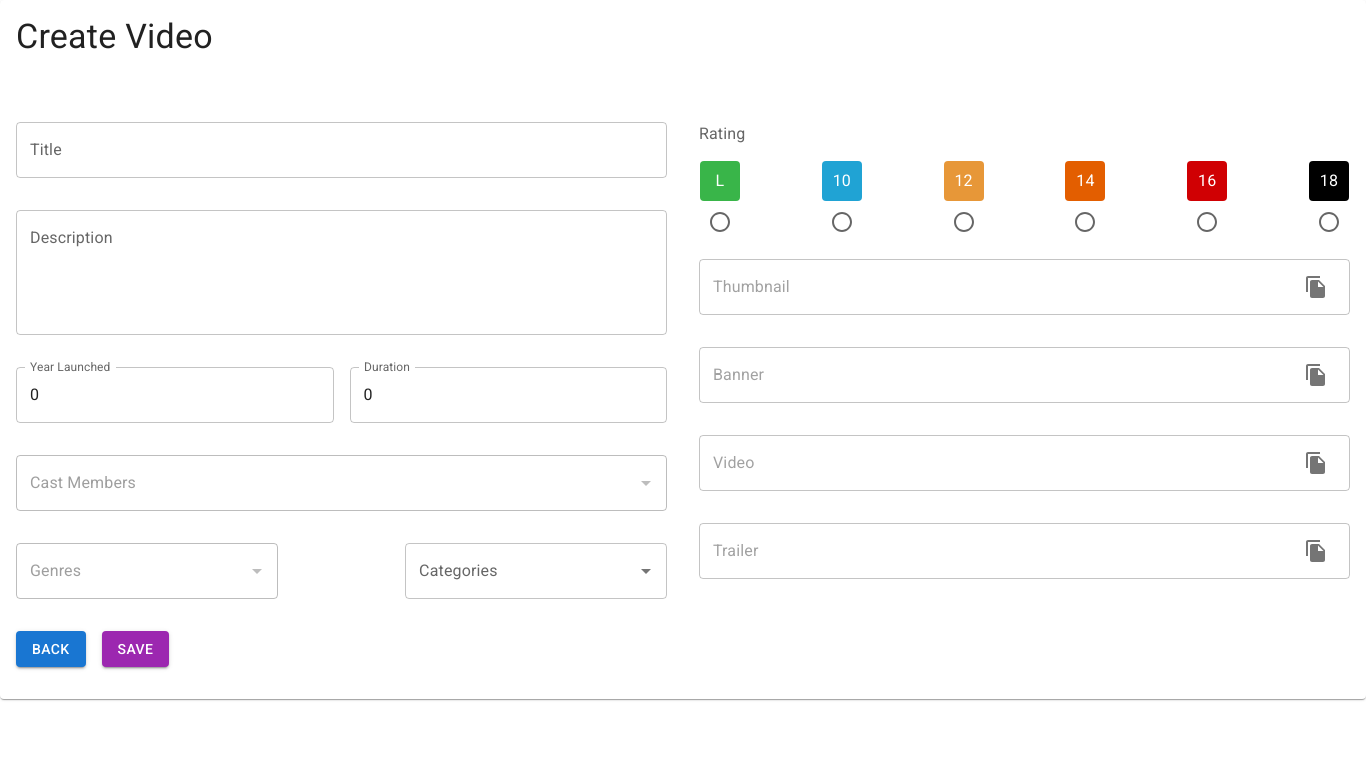
VideosCreate › should handle submit
The image size is (1366, 768).
Type "Test Video" into the field with test id "title". click: (342, 150)
box: [16,122,667,178]
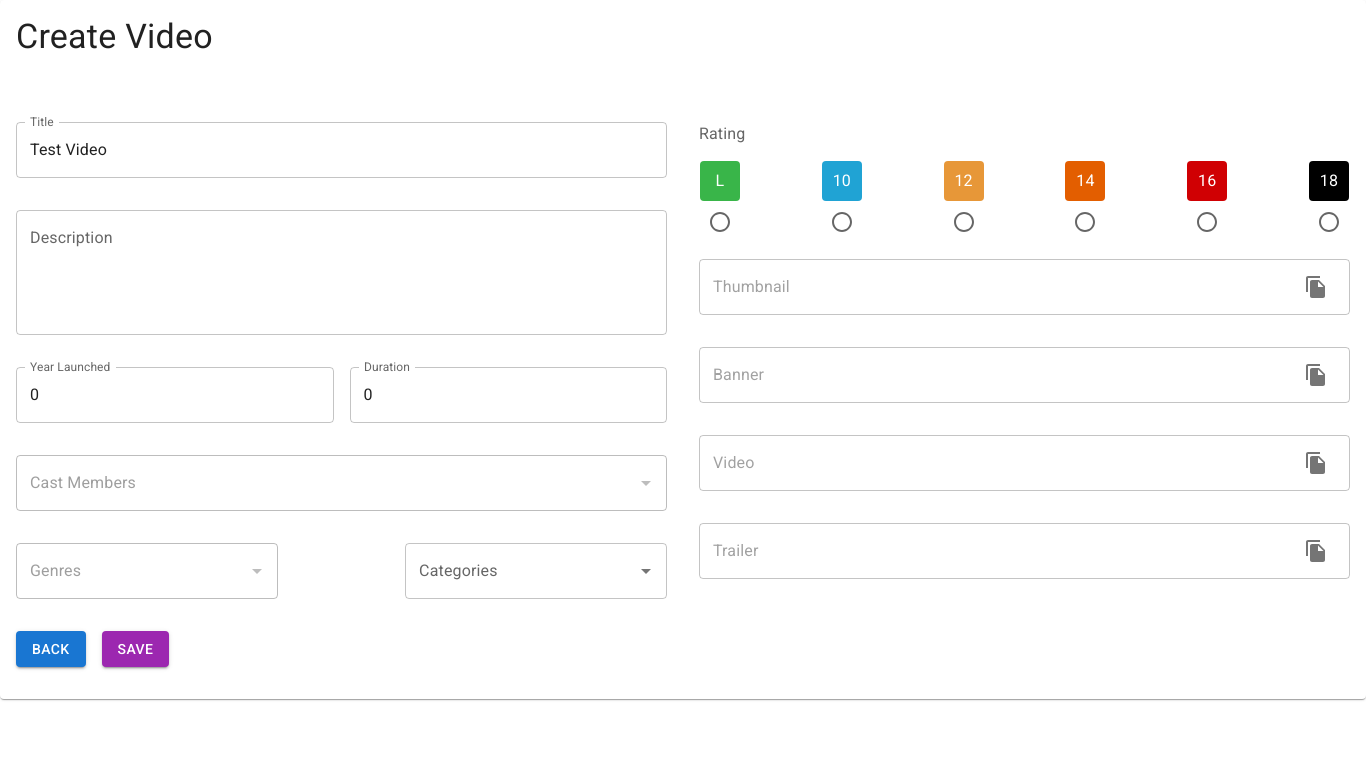
Type "Test description" into the text box with test id "description". click: (342, 272)
box: [30,226,653,318]
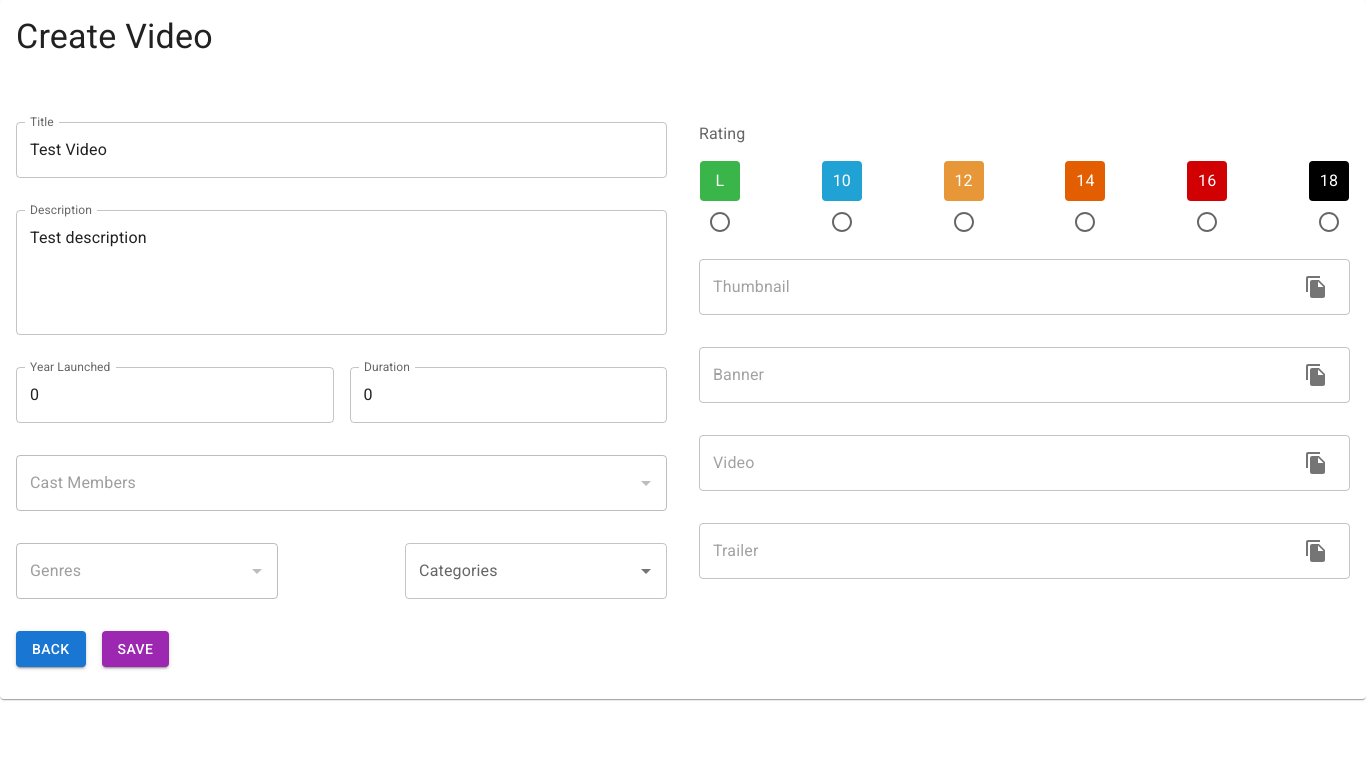
Replace the text in the field with test id "year_launched" with "2022". click: (175, 395)
box: [16,367,334,423]
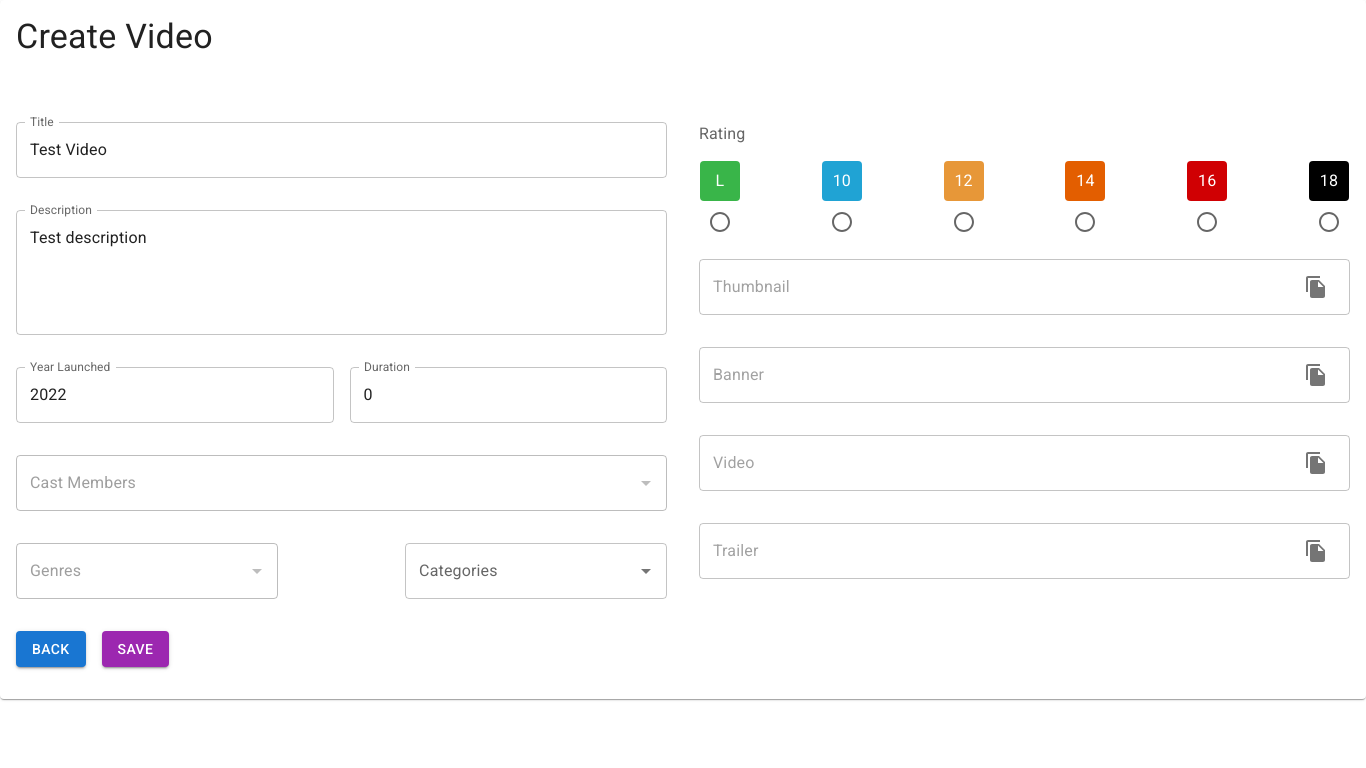
Replace the text in the field with test id "duration" with "120". click: (508, 395)
box: [350,367,667,423]
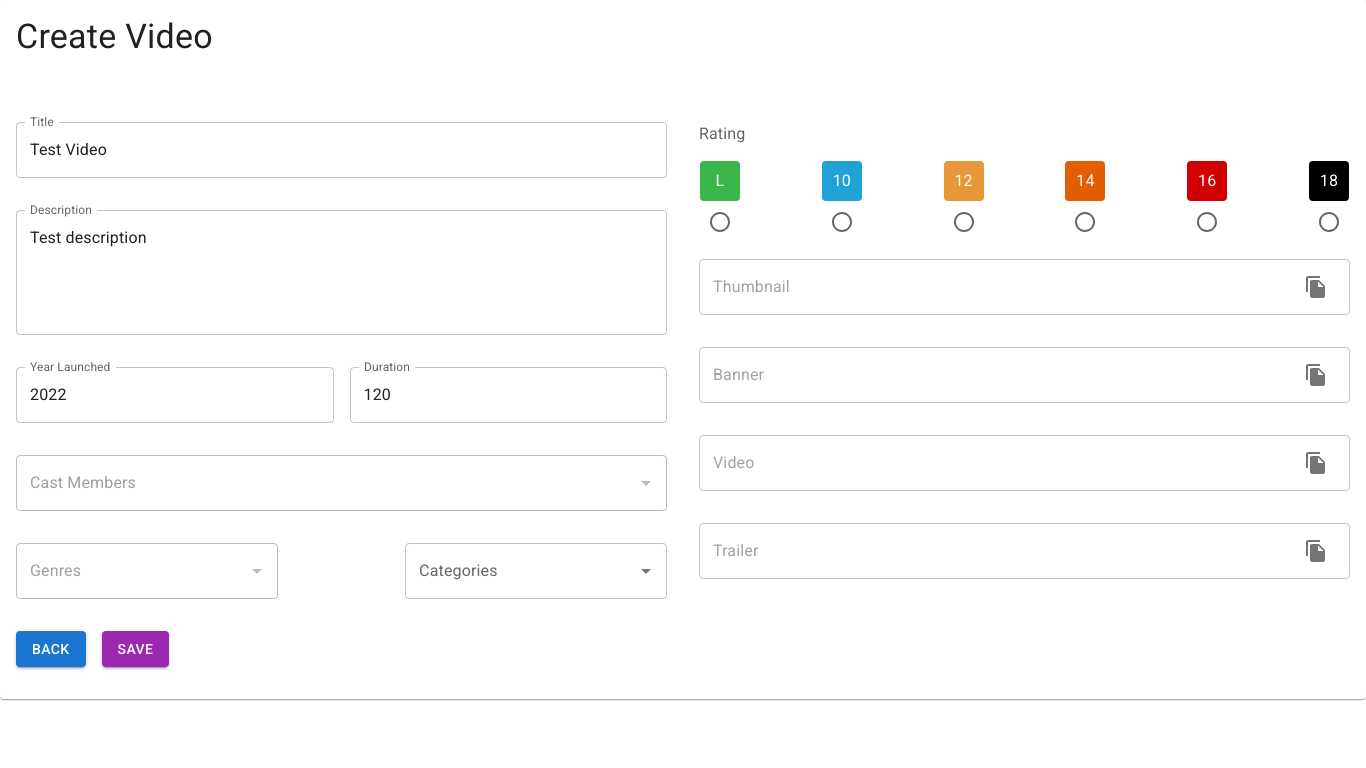
Click the button "Save". click: click(136, 649)
box: [102,631,169,668]
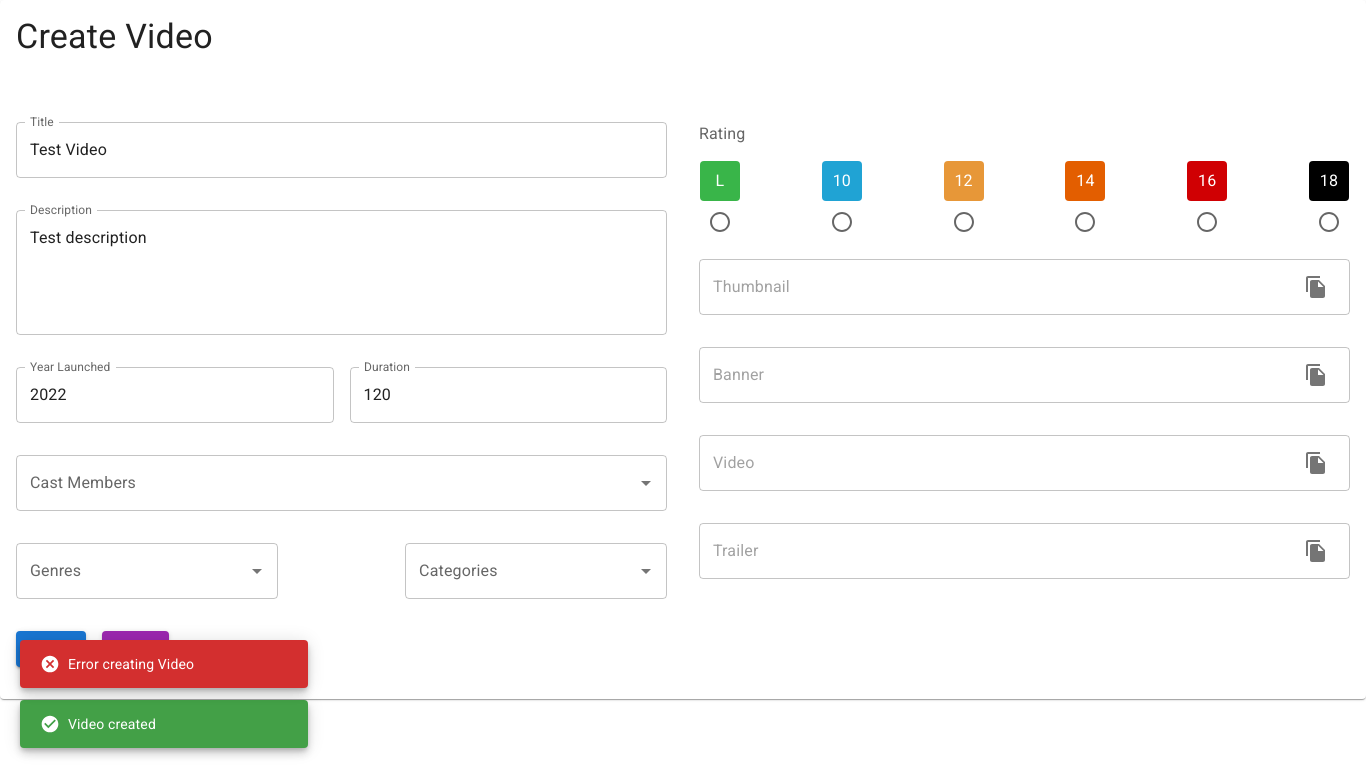
Now the text "Video created" is shown, box [40,714,156,734]
